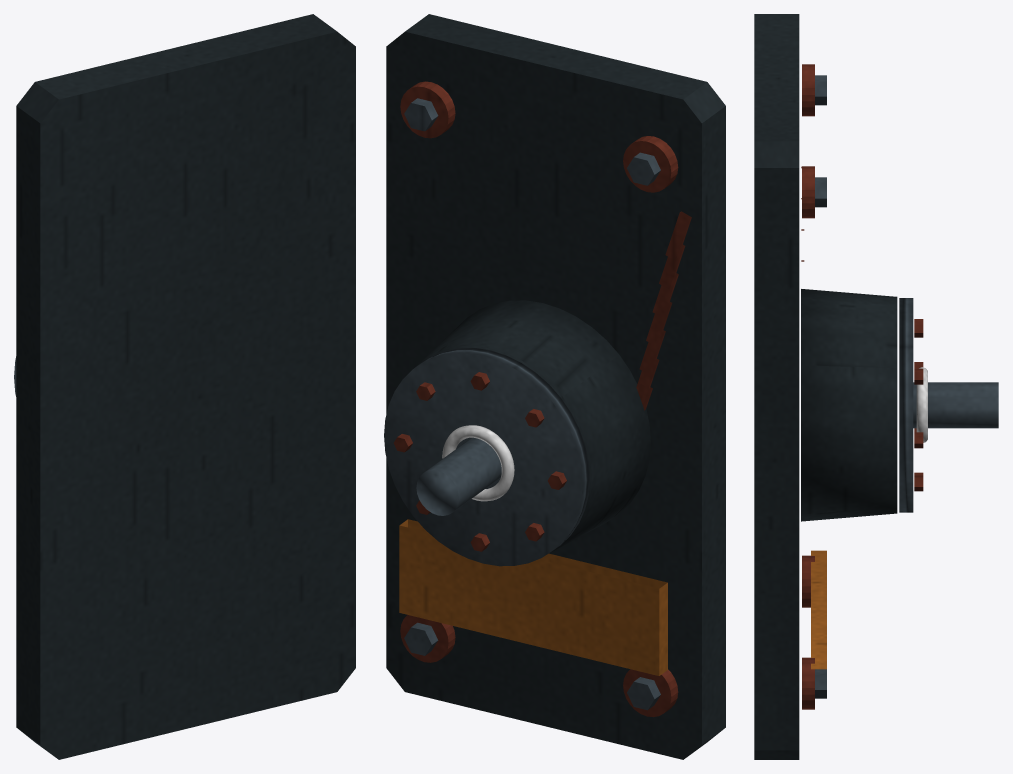
The model's file is bulkhead_crank.glb.
3 views of the same model, side by side, from view 1: azimuth 30°, elevation 25°; view 2: azimuth 150°, elevation 25°; view 3: azimuth 270°, elevation 25° (orthographic). The views are drawn at different scales.
Parts seen in each view (by area): view 1: bulkhead_crank_Mesh; view 2: bulkhead_crank_Mesh; view 3: bulkhead_crank_Mesh.
Part boxes in pixels (left/top/right/bottom): bulkhead_crank_Mesh: left=14, top=14, right=355, bottom=759; bulkhead_crank_Mesh: left=384, top=14, right=725, bottom=759; bulkhead_crank_Mesh: left=754, top=14, right=998, bottom=759.
Size of the model in its own units: 0.34 by 0.68 by 0.2435.
5 materials, 5 textured.
